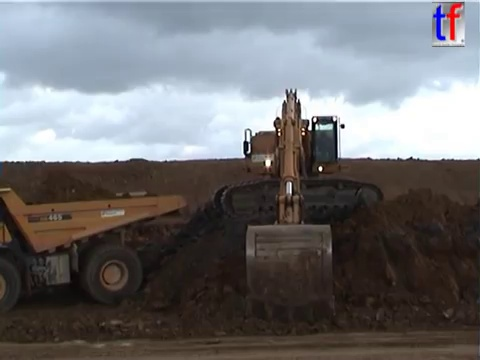excavator: (209, 84, 385, 329)
truck: (1, 185, 189, 314)
